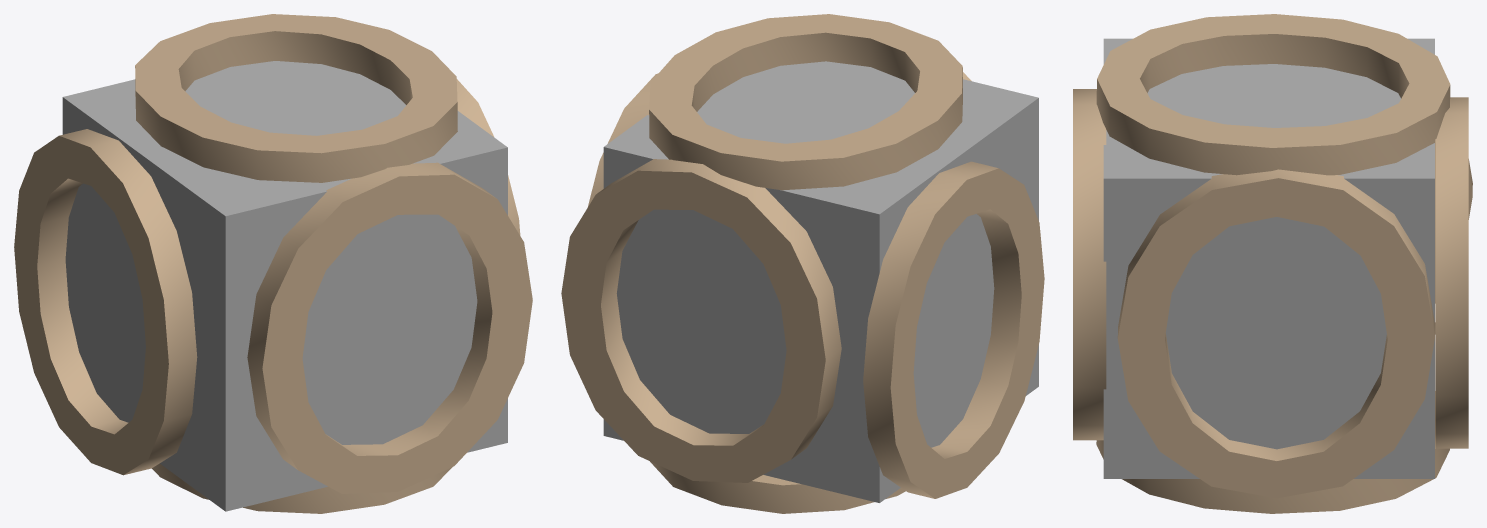
File: LetterO.fbx
3 views of the same model, side by side, from view 1: azimuth 30°, elevation 25°; view 2: azimuth 150°, elevation 25°; view 3: azimuth 270°, elevation 25° (orthographic). The views are drawn at different scales.
Parts seen in each view (by area): view 1: Box, Text Front, Text Left, Text Top, Text Bottom, Text Right; view 2: Box, Text Back, Text Left, Text Top, Text Bottom, Text Right; view 3: Box, Text Right, Text Top, Text Back, Text Front, Text Bottom.
Boxes of the visible parts, x1,y1,x2,y2 form: Box: (62, 61, 507, 511); Text Front: (247, 162, 532, 493); Text Left: (14, 129, 197, 475); Text Top: (135, 14, 457, 182); Text Bottom: (152, 463, 452, 513); Text Right: (456, 79, 520, 235); Box: (603, 61, 1038, 502); Text Back: (561, 159, 841, 482); Text Left: (863, 161, 1044, 498); Text Top: (649, 14, 962, 190); Text Bottom: (650, 461, 905, 513); Text Right: (587, 73, 657, 207); Box: (1103, 38, 1434, 478); Text Right: (1117, 169, 1435, 498); Text Top: (1096, 14, 1450, 175); Text Back: (1435, 97, 1468, 448); Text Front: (1073, 89, 1106, 440); Text Bottom: (1096, 391, 1449, 513).
Bounding box in the file's own units: 1.21 × 1.24 × 1.21.
